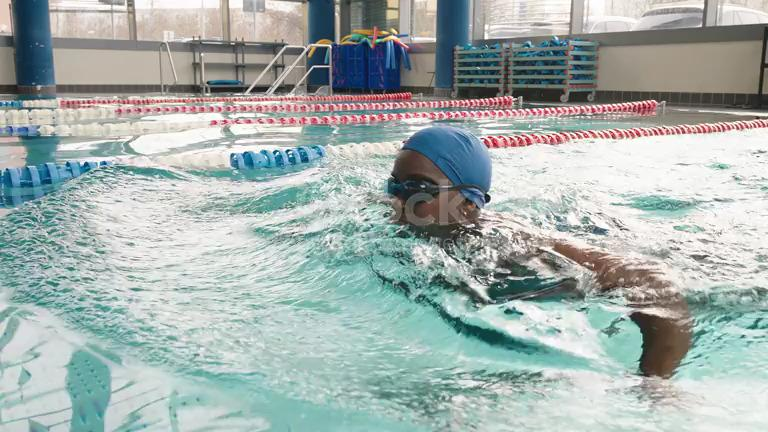Swimming: (318, 101, 719, 364)
